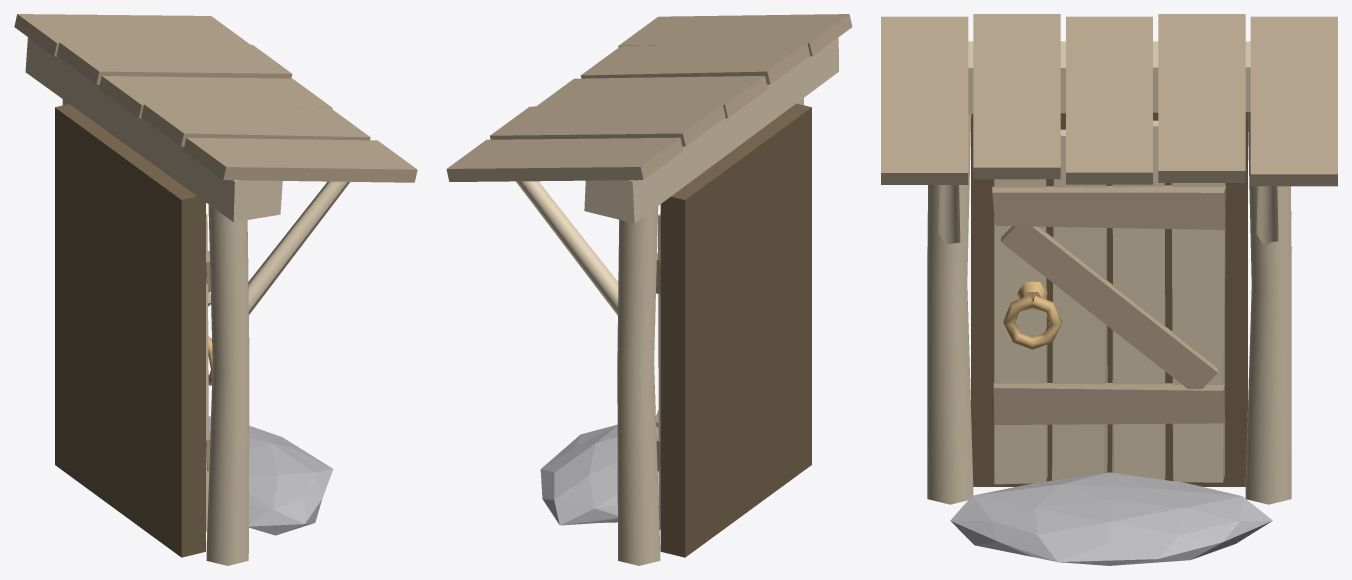
The model's file is building.door.glb.
The picture shows the model from 3 angles, left to right: view 1: azimuth 30°, elevation 25°; view 2: azimuth 150°, elevation 25°; view 3: azimuth 270°, elevation 25°; orthographic projection. The views are drawn at different scales.
Visible parts, largest first — view 1: Door, PaintDark, Paint, Stone; view 2: Door, PaintDark, Paint, Stone; view 3: PaintDark, Paint, Stone, Door, Bronze.
Part boxes in pixels (left/top/right/bottom): Door: left=55, top=104, right=205, bottom=557; PaintDark: left=14, top=14, right=417, bottom=471; Paint: left=25, top=37, right=349, bottom=565; Stone: left=208, top=416, right=333, bottom=535; Door: left=660, top=103, right=811, bottom=557; PaintDark: left=446, top=14, right=852, bottom=471; Paint: left=516, top=37, right=838, bottom=565; Stone: left=540, top=424, right=658, bottom=525; PaintDark: left=881, top=14, right=1337, bottom=424; Paint: left=927, top=41, right=1291, bottom=504; Stone: left=950, top=472, right=1272, bottom=565; Door: left=971, top=112, right=1247, bottom=486; Bronze: left=1002, top=281, right=1062, bottom=349.
Size of the model in its own units: 0.4858 by 0.9926 by 0.89.
